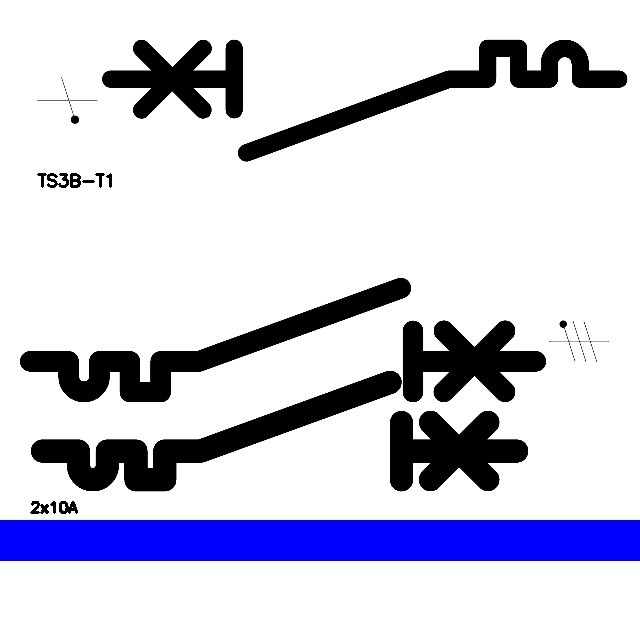interruptor_termomagnetico: (97, 35, 631, 166), (17, 275, 549, 405), (30, 370, 529, 492)
